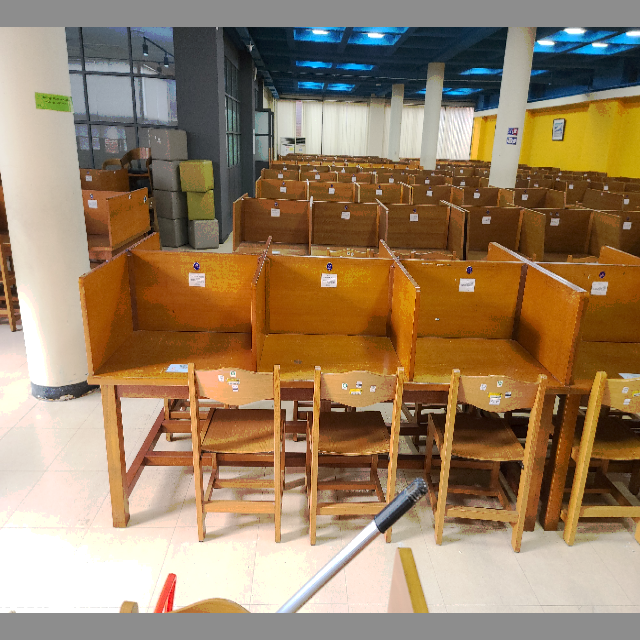empty: (82, 239, 251, 456), (415, 241, 568, 460), (257, 244, 411, 448)
